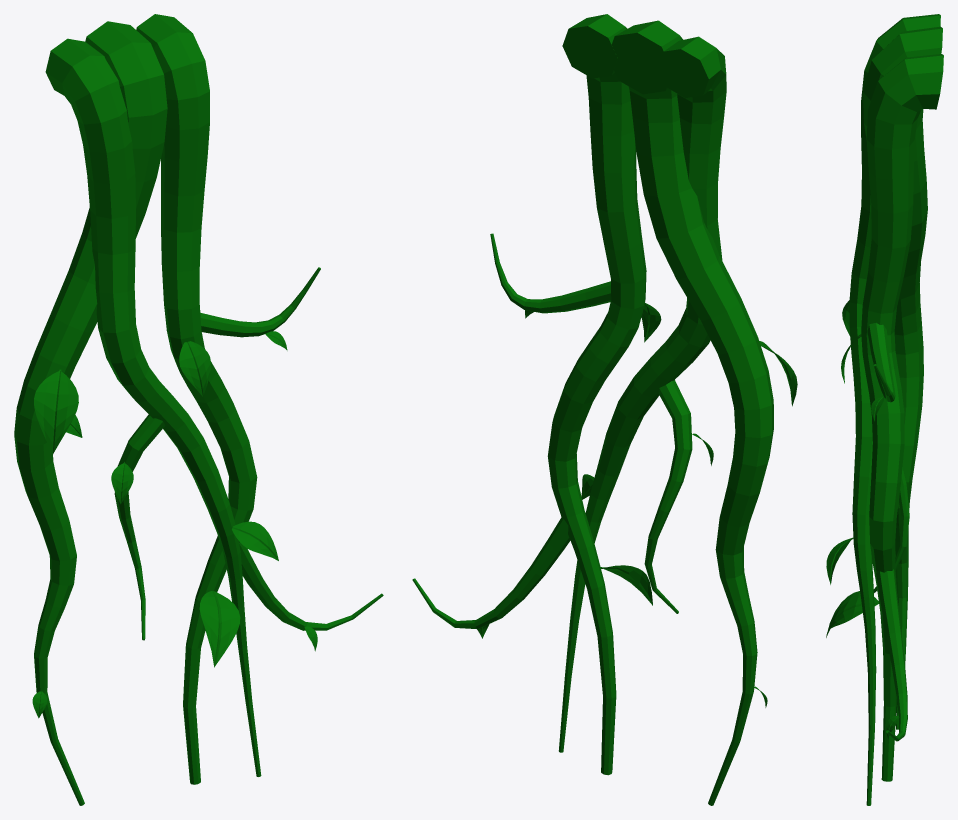
Rendered from Plante T 1_ mesh SANS BOUBOULE.fbx.
3 renders of one model, left to right at view 1: azimuth 30°, elevation 25°; view 2: azimuth 150°, elevation 25°; view 3: azimuth 270°, elevation 25°, orthographic. The views are drawn at different scales.
Parts seen in each view (by area): view 1: CourbeBézier.001; view 2: CourbeBézier.001; view 3: CourbeBézier.001.
Boxes of the visible parts, bbox=[...] form: CourbeBézier.001: bbox=[14, 14, 383, 805]; CourbeBézier.001: bbox=[412, 14, 797, 805]; CourbeBézier.001: bbox=[826, 14, 943, 805].
Bounding box in the file's own units: 343 × 687 × 101.
